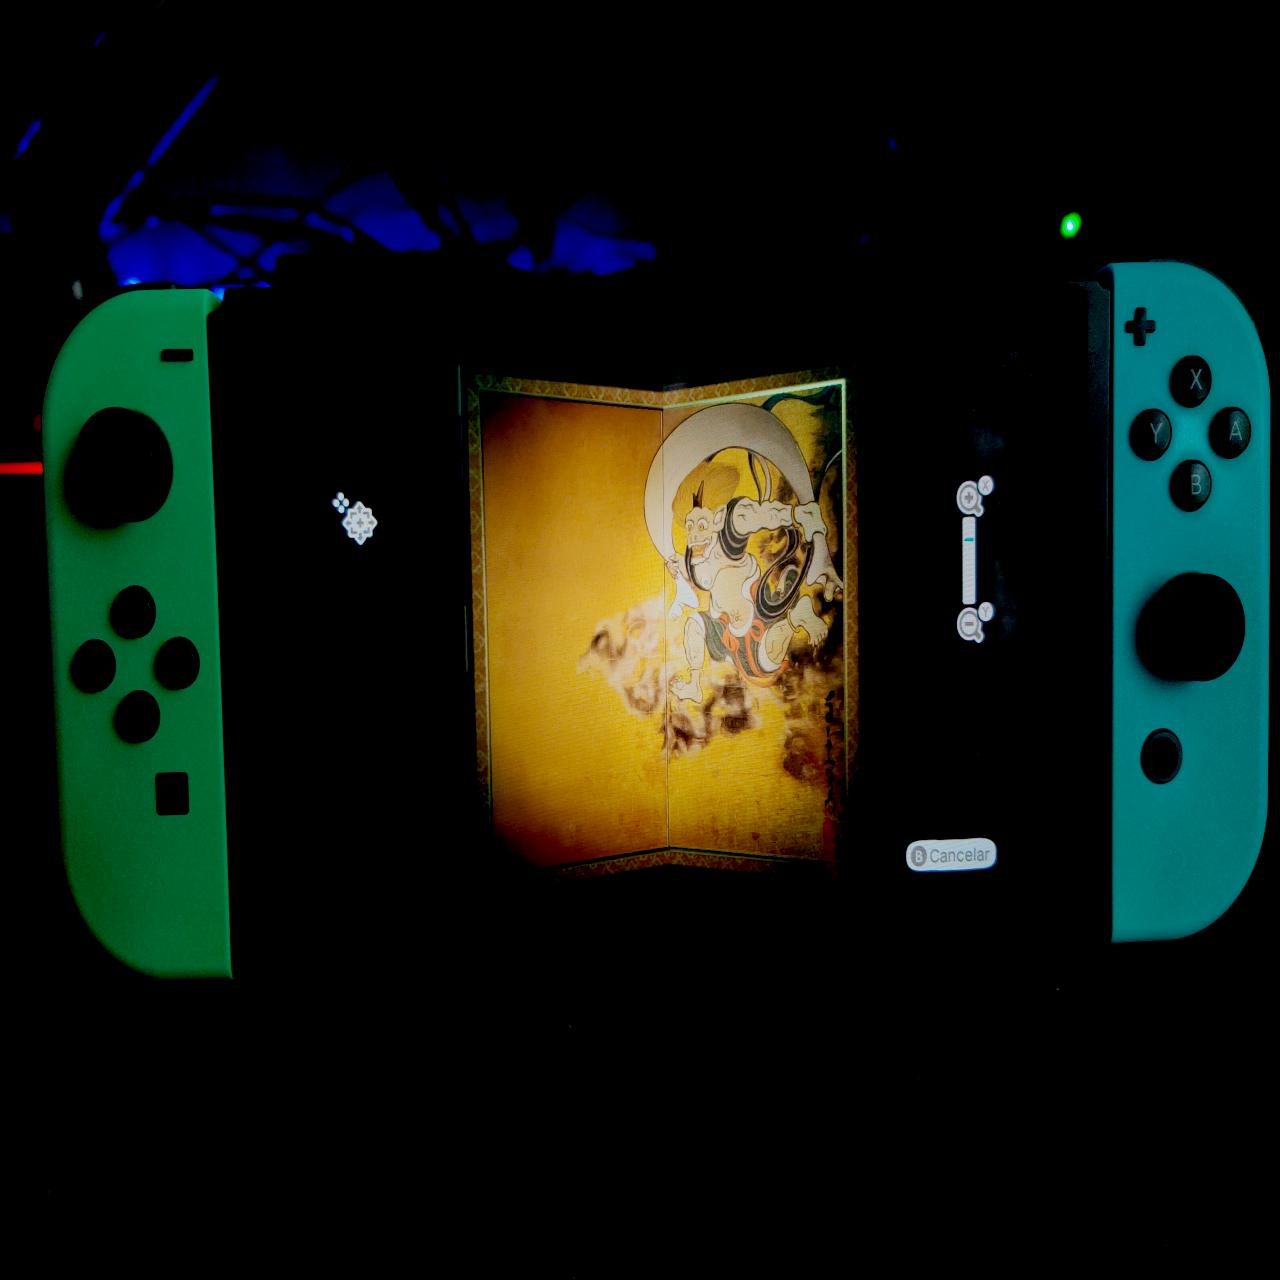FuujinFake: (457, 367, 870, 892)
